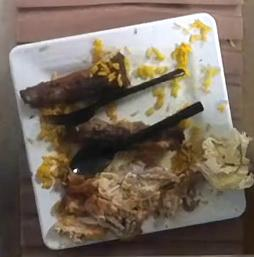ribs: (20, 52, 130, 107), (66, 118, 130, 142)
rice: (35, 108, 79, 188)
